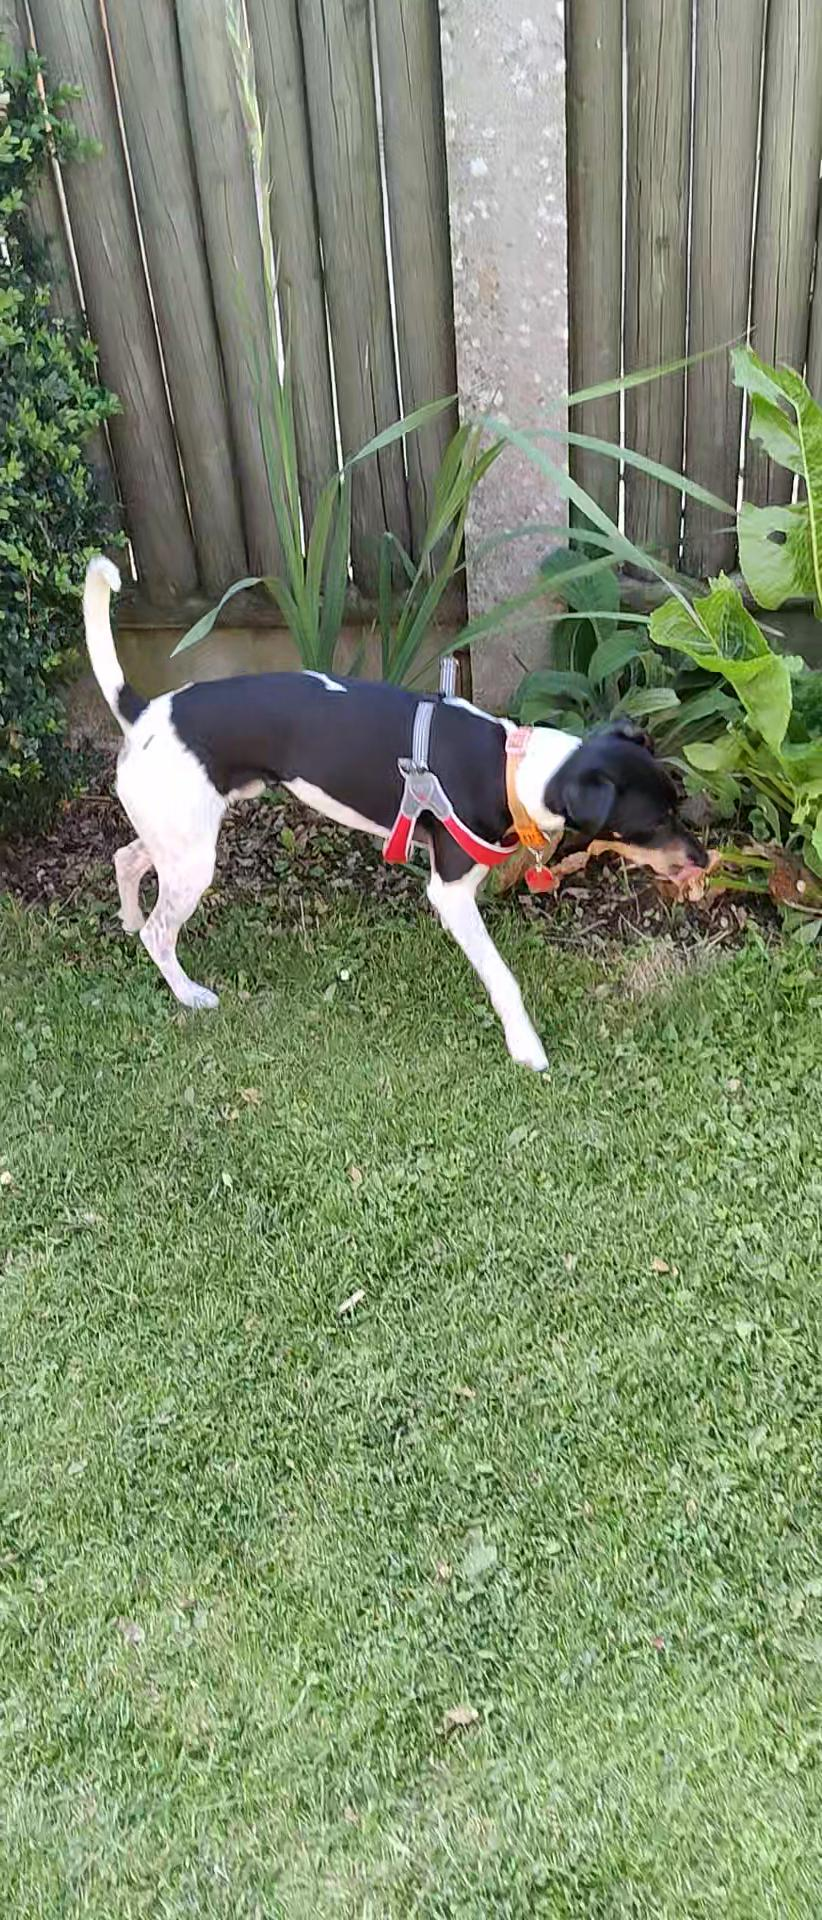Dog: (60, 536, 715, 1086)
